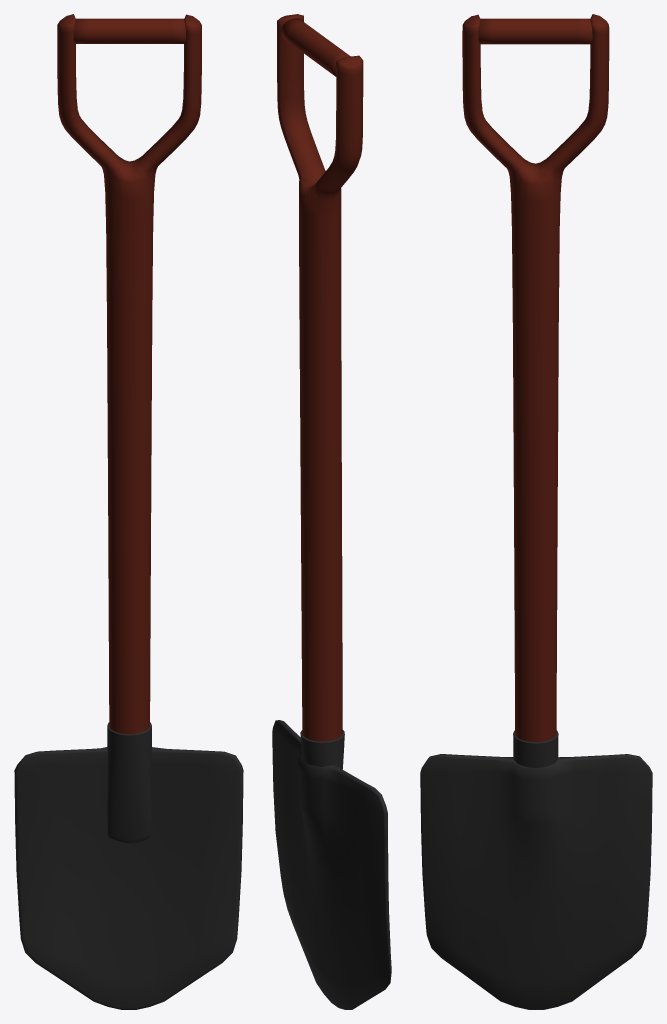
File: Shovel.FBX
3 renders of one model, left to right at view 1: azimuth 90°, elevation 25°; view 2: azimuth 210°, elevation 25°; view 3: azimuth 270°, elevation 25°, orthographic. The views are drawn at different scales.
Parts seen in each view (by area): view 1: Plane001, Stick002; view 2: Stick002, Plane001; view 3: Plane001, Stick002.
Part boxes in pixels (x1=…): Plane001: x1=14, y1=722, x2=243, y2=1009; Stick002: x1=57, y1=14, x2=201, y2=734; Stick002: x1=277, y1=14, x2=363, y2=741; Plane001: x1=272, y1=720, x2=391, y2=1009; Plane001: x1=420, y1=730, x2=652, y2=1009; Stick002: x1=462, y1=14, x2=609, y2=742.
Size of the model in its own units: 11.53 by 270 by 56.97.
